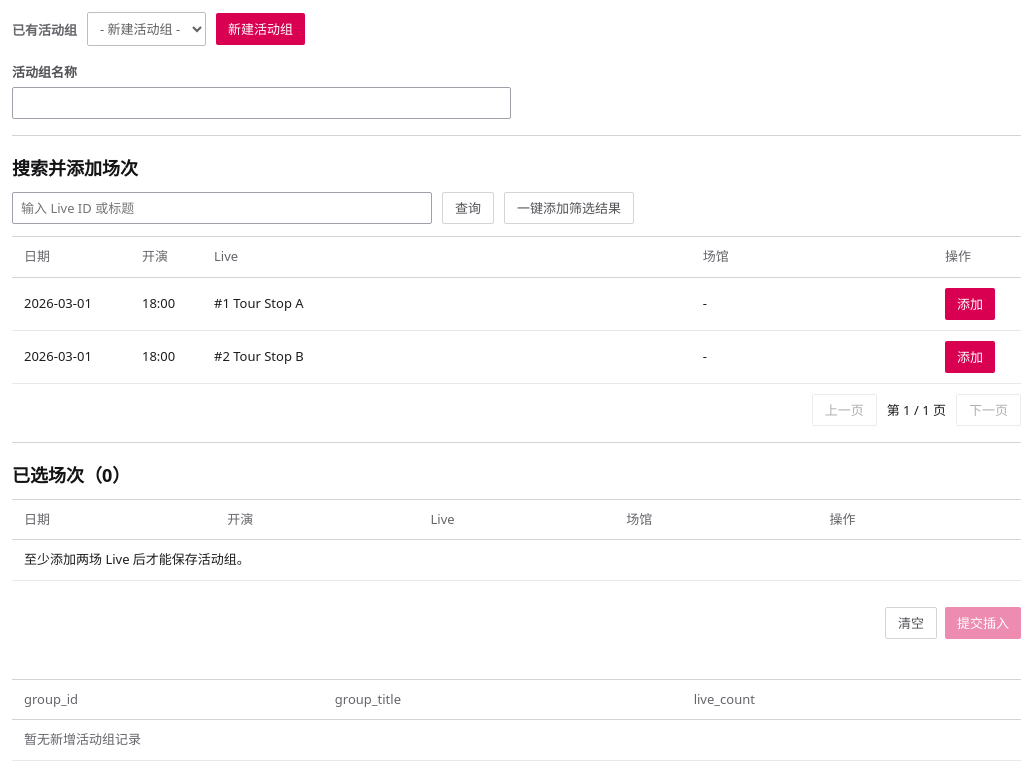
Test: PerformanceGroupAdminSection › one-click add filtered results batch adds candidates to selected list
This screenshot has width=1036, height=766.
Expected: the text "#1 Tour Stop A" is shown, [202,277,691,330]
Click the button "添加" in the row of "Tour Stop A": click(970, 304) [945,288,995,320]
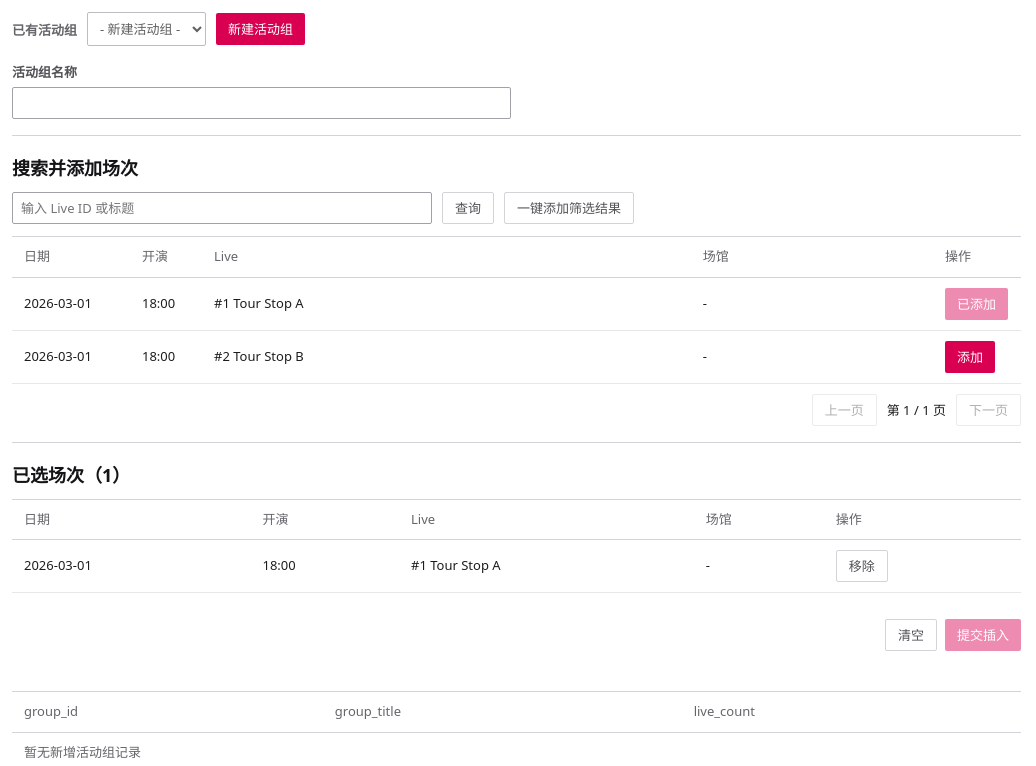
In the field with placeholder "输入 Live ID 或标题": (222, 208) [12,192,432,224], type "Tour"
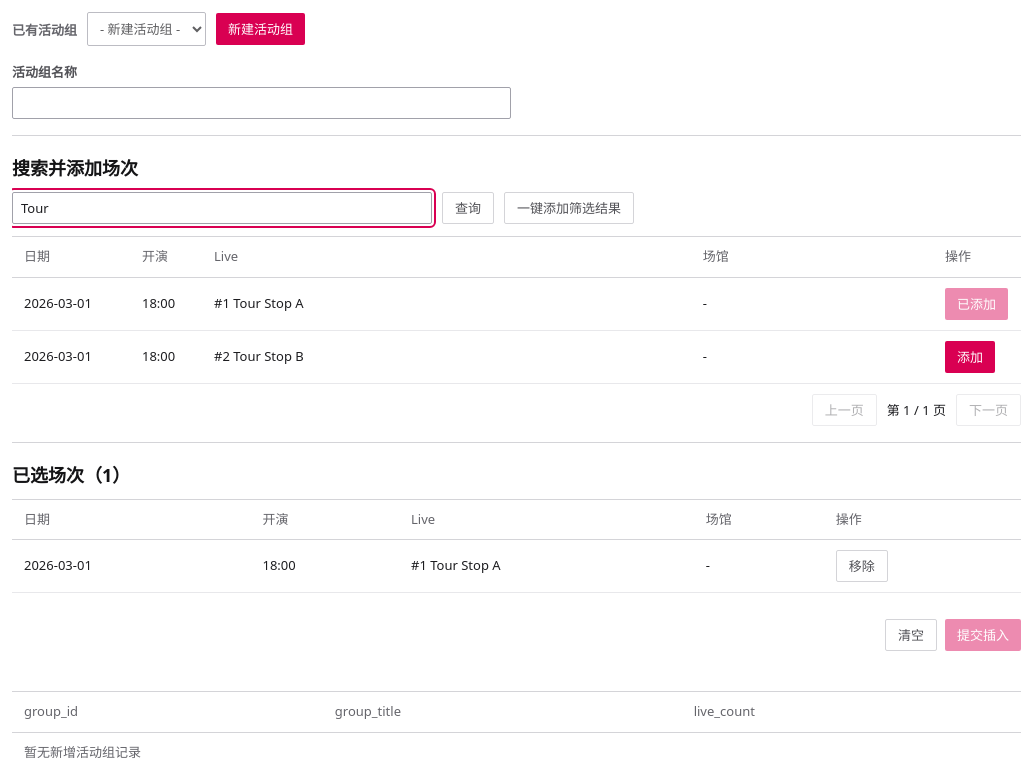
Click the button "一键添加筛选结果": click(569, 208) [504,192,634,224]
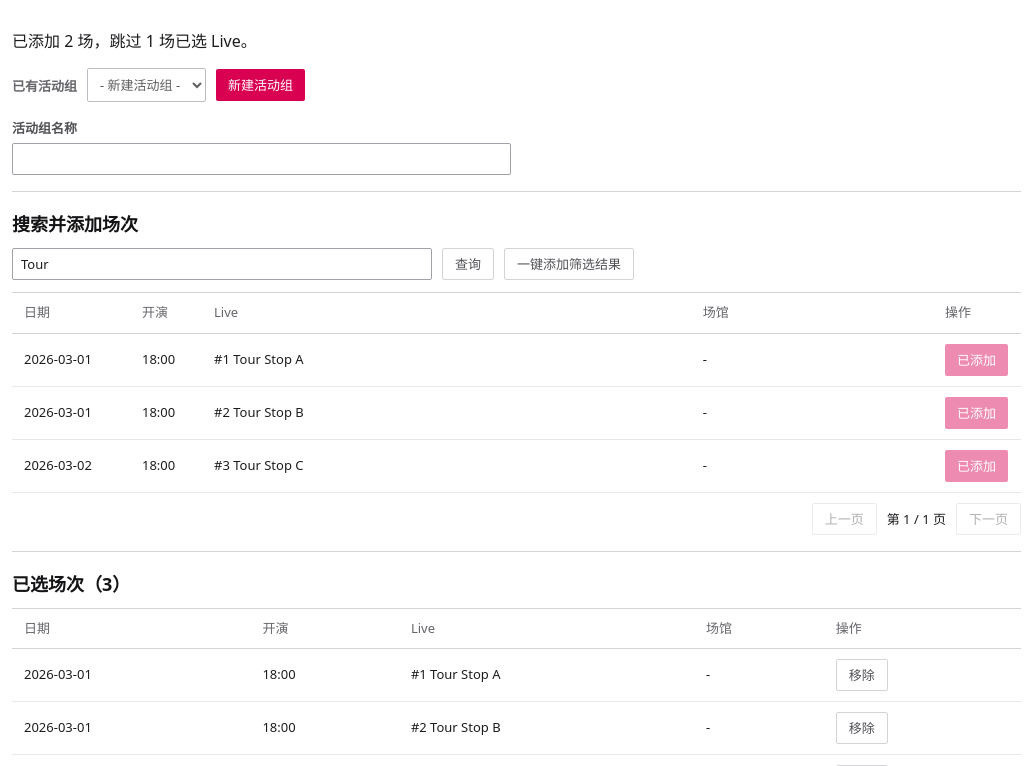
Now the text "已添加 2 场，跳过 1 场已选 Live。" is shown, box [12,30,257,52]
